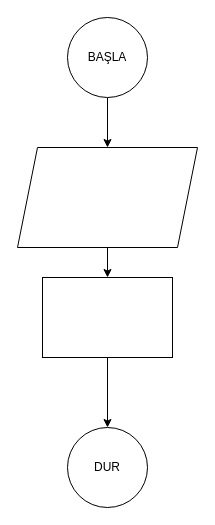
This 215x525 diagram has some shape labels left out. Each missing label, with the centre of its shape:
28,5-(9+5*1,5)=12= tatlı 2/7=12 ise 7x=42 42-28,5=13,5/1,5= 9 çay: (x=107, y=317)
bardak çay=1.5 tl portakal suyu=9 tl tatlı=? toplam=28,5 tl: (x=107, y=197)
